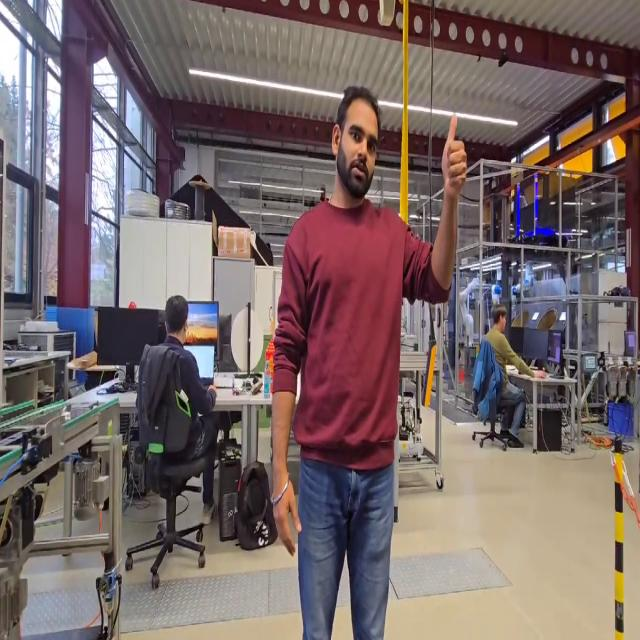thumbs_up: (438, 110, 470, 204)
